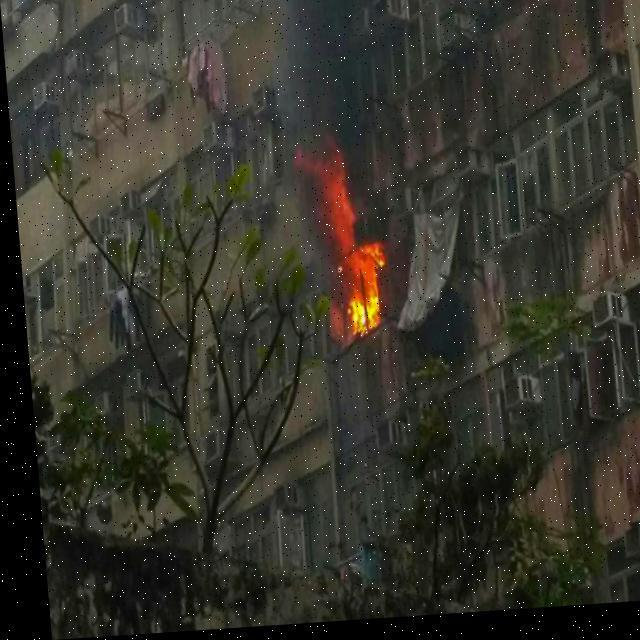Fire: (335, 245, 383, 340)
